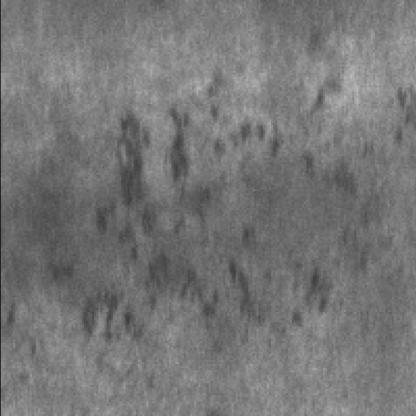rolled-in_scale: (102, 83, 362, 235), (73, 221, 335, 344)
